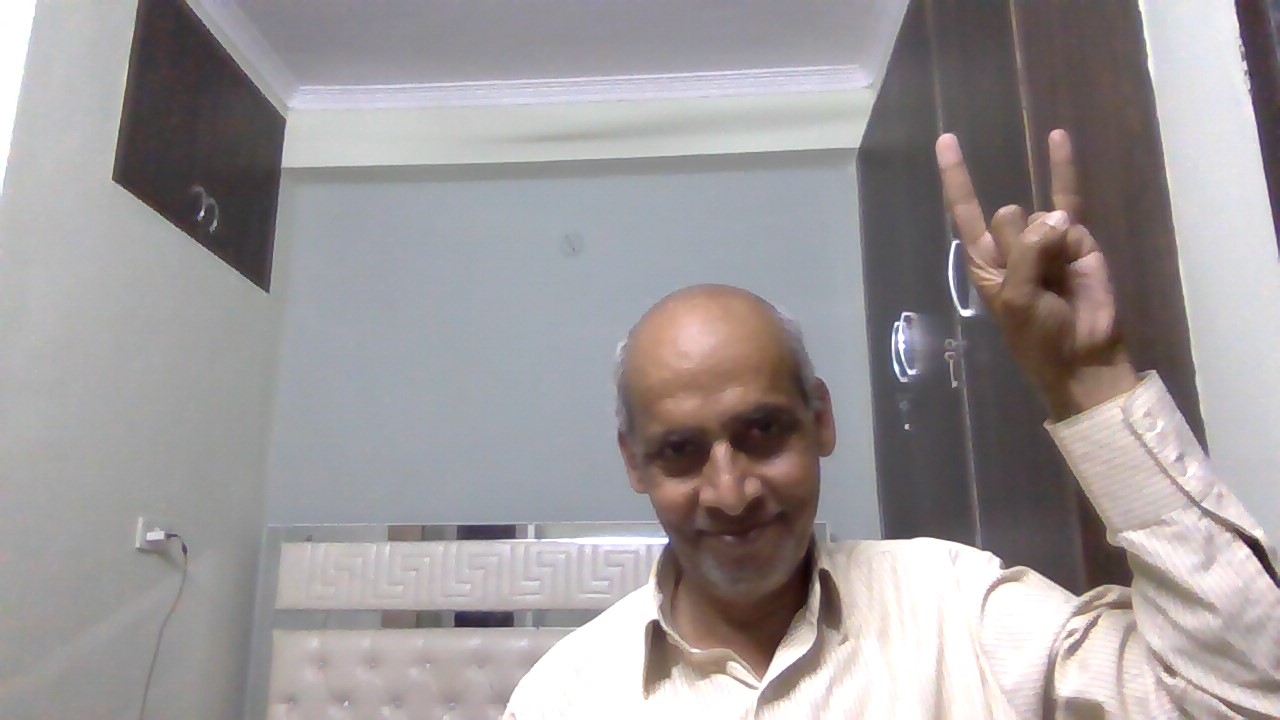Select All: (916, 127, 1168, 379)
